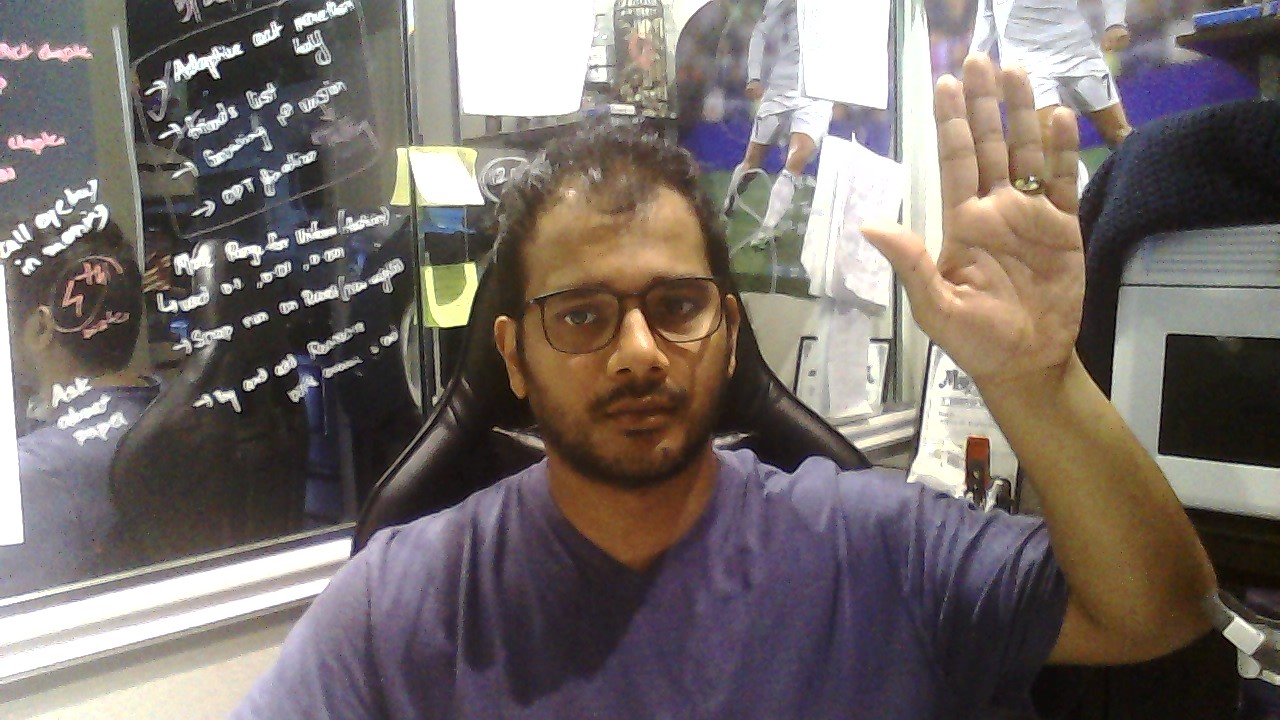Hello: (861, 48, 1085, 374)
